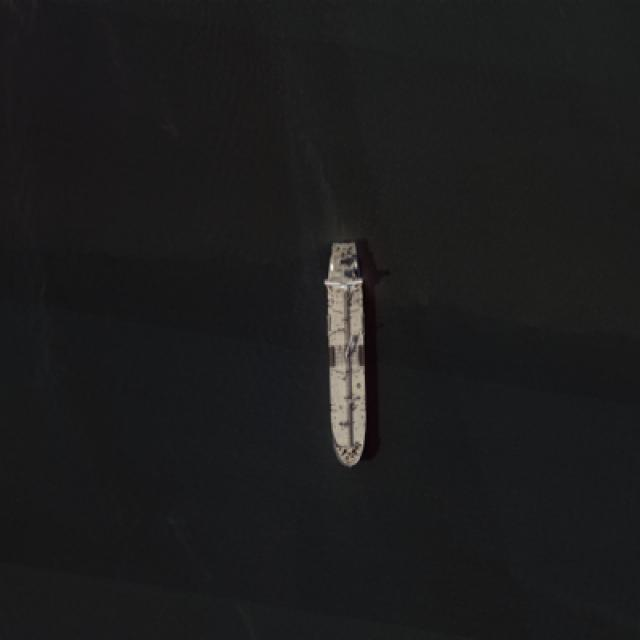boat: (322, 238, 369, 468)
